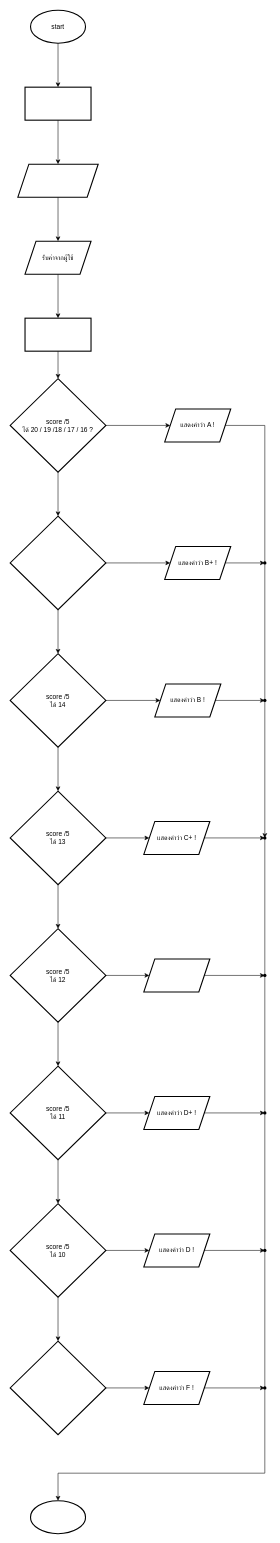
This 280x1543 diagram has some shape labels left out. The centre of each missing label's shape, as x and y in pixels:
Default: (57,1387)
end: (58,1517)
score / 5: (57,334)
score /5 ได้ 15: (57,562)
กำหนดตัวแปร score: (57,103)
แสดงคำว่า C !: (176,975)
แสดงคำว่า enter score :: (57,180)
